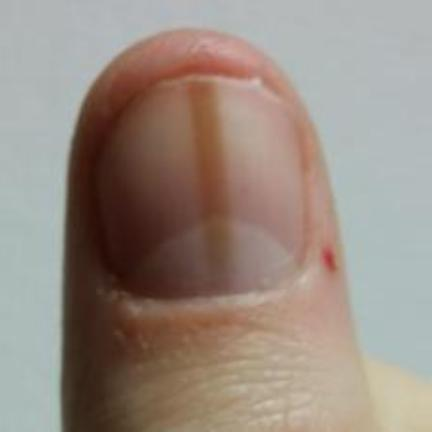Nail: (95, 75, 307, 304)
